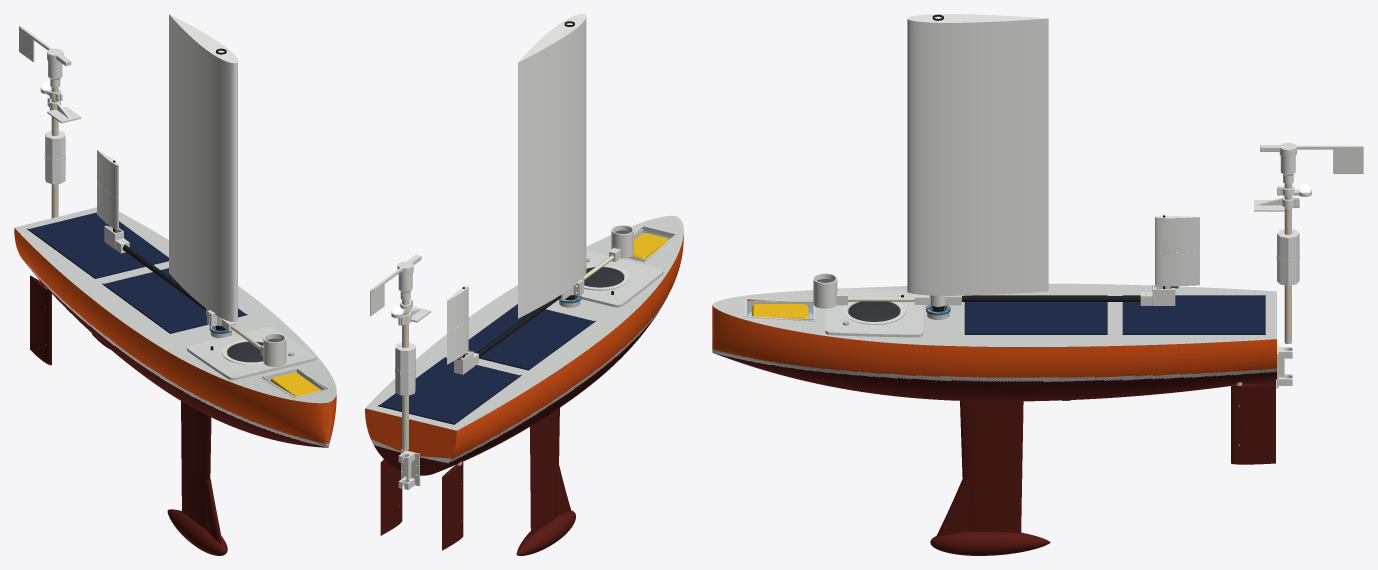
File: drone_boat_revE3.glb
The picture shows the model from 3 angles, left to right: view 1: azimuth 30°, elevation 25°; view 2: azimuth 150°, elevation 25°; view 3: azimuth 270°, elevation 25°; orthographic projection. The views are drawn at different scales.
Visible parts, largest first — view 1: wing, hull, deck, solar2, solar1, fin, hatch_lid, bulb, radar, P13a_stbd, P13b_stbd, P02 (+10 smaller); view 2: wing, deck, hull, solar2, solar1, transom, fin, hatch_lid, bulb, radar, P13a_stbd, P13b_port (+13 smaller); view 3: wing, hull, deck, fin, solar2, solar1, hatch_lid, bulb, P13a_port, P13b_port, P10b, P10a (+7 smaller).
Boxes of the visible parts, x1,y1,x2,y2 form: wing: (169,14,237,321); hull: (14,228,336,447); deck: (14,207,336,403); solar2: (27,212,168,278); solar1: (102,268,247,333); fin: (181,401,211,527); hatch_lid: (187,326,316,380); bulb: (167,509,227,555); radar: (44,130,65,184); P13a_stbd: (30,275,51,327); P13b_stbd: (30,313,51,365); P02: (19,26,71,66); wing: (518,14,586,318); deck: (365,215,683,430); hull: (437,228,683,472); solar2: (378,357,521,424); solar1: (468,304,595,370); transom: (365,408,456,475); fin: (530,408,559,535); hatch_lid: (581,250,663,307); bulb: (516,510,575,555); radar: (395,342,415,395); P13a_stbd: (442,462,463,513); P13b_port: (380,488,402,535); wing: (907,14,1048,295); hull: (712,299,1276,401); deck: (712,283,1276,346); fin: (960,401,1023,533); solar2: (1122,295,1265,334); solar1: (964,295,1107,334); hatch_lid: (825,288,923,337); bulb: (930,531,1050,555); P13a_port: (1231,384,1275,425); P13b_port: (1231,424,1275,464); P10b: (1155,216,1199,252); P10a: (1155,251,1199,286).
Size of the model in its own units: 0.4 by 1.58 by 1.73.
